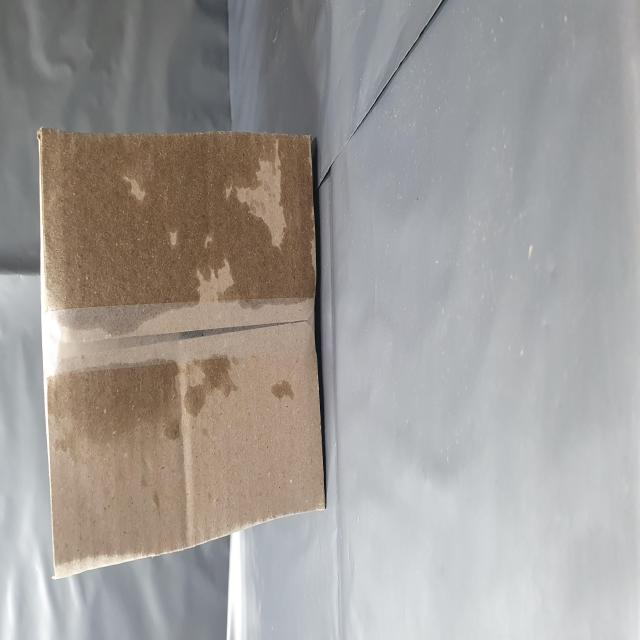wet: (183, 79, 287, 566), (100, 85, 160, 417)
